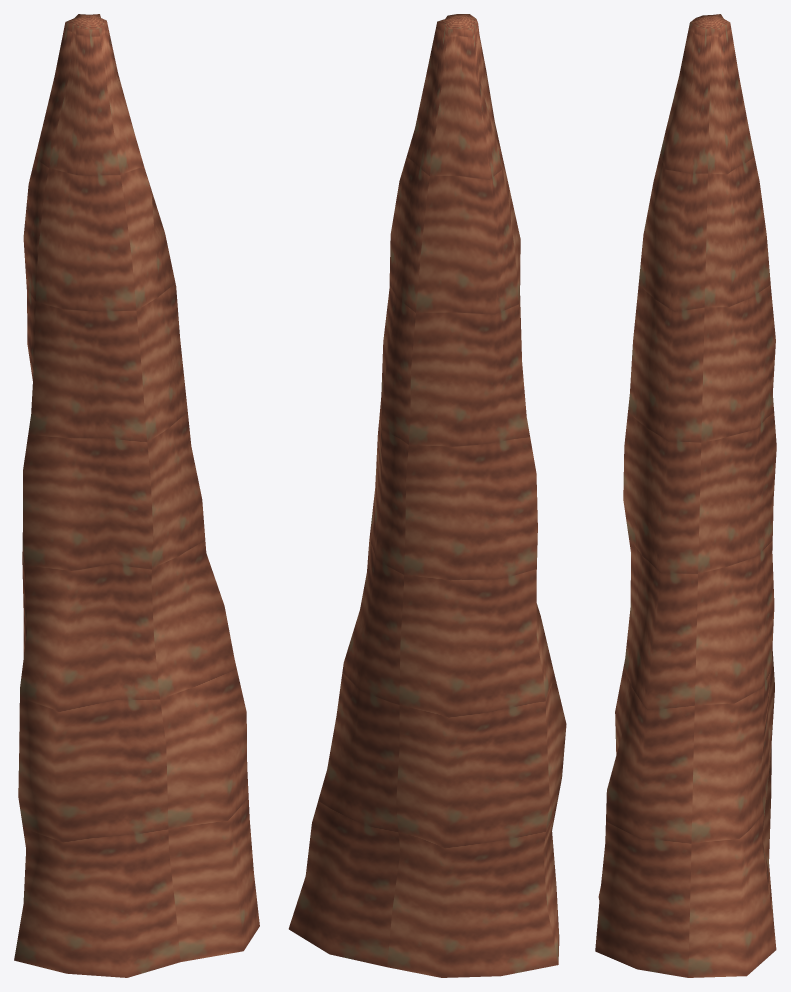
File: Rock_Spire_2_LOD1.gltf
The picture shows the model from 3 angles, left to right: view 1: azimuth 30°, elevation 25°; view 2: azimuth 150°, elevation 25°; view 3: azimuth 270°, elevation 25°; orthographic projection. The views are drawn at different scales.
Visible parts, largest first — view 1: Rock_Spire_2_LOD1; view 2: Rock_Spire_2_LOD1; view 3: Rock_Spire_2_LOD1.
Part boxes in pixels (x1,y1,x2,y2): Rock_Spire_2_LOD1: (14, 14, 259, 977); Rock_Spire_2_LOD1: (288, 14, 566, 977); Rock_Spire_2_LOD1: (595, 14, 776, 977).
Size of the model in its own units: 11.6 by 42.61 by 7.9.
Materials: 1 (1 with a texture image).
